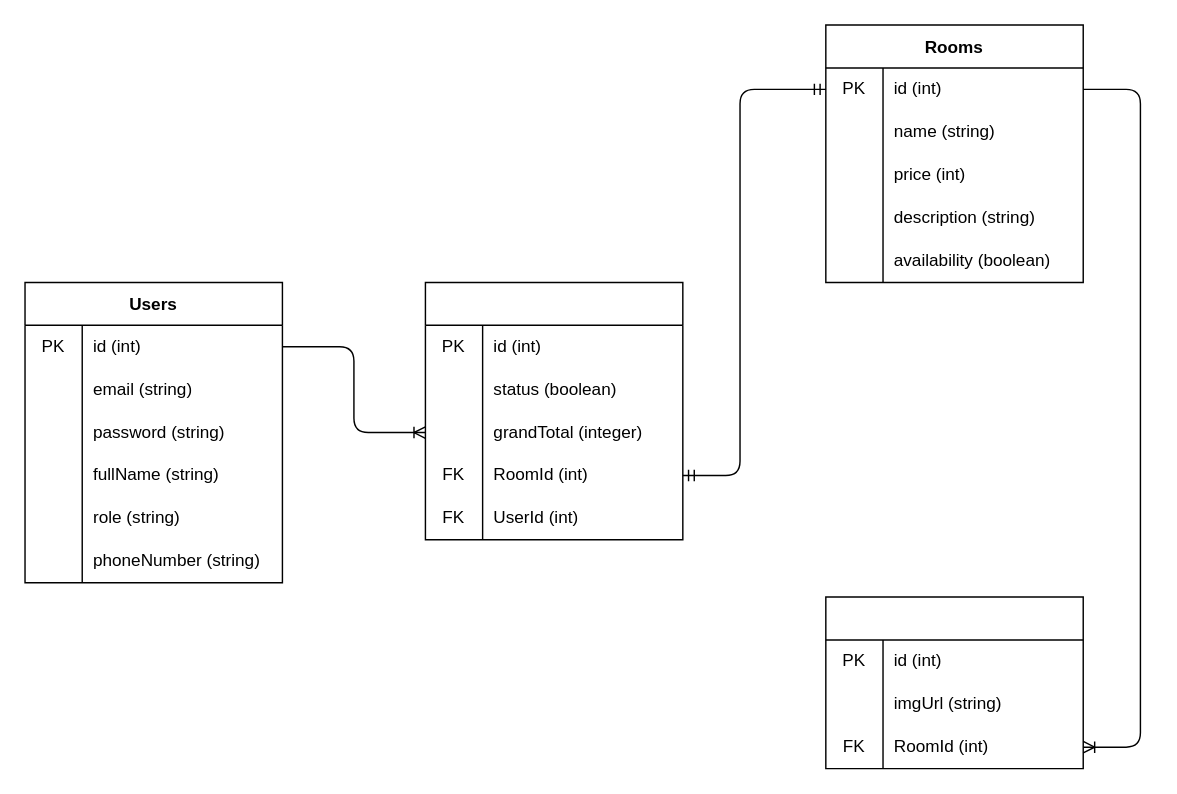
The diagram is 1177 pixels wide and 794 high, and some of its shapes have lost their labels. The box of each missing label's shape, as (x1, y1, x2, y2) in pixels:
Bookings: (424, 281, 683, 540)
Photos: (824, 596, 1083, 769)
